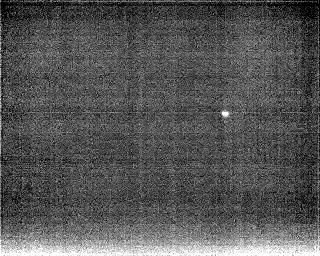AIRPLANE: (219, 108, 231, 120)
